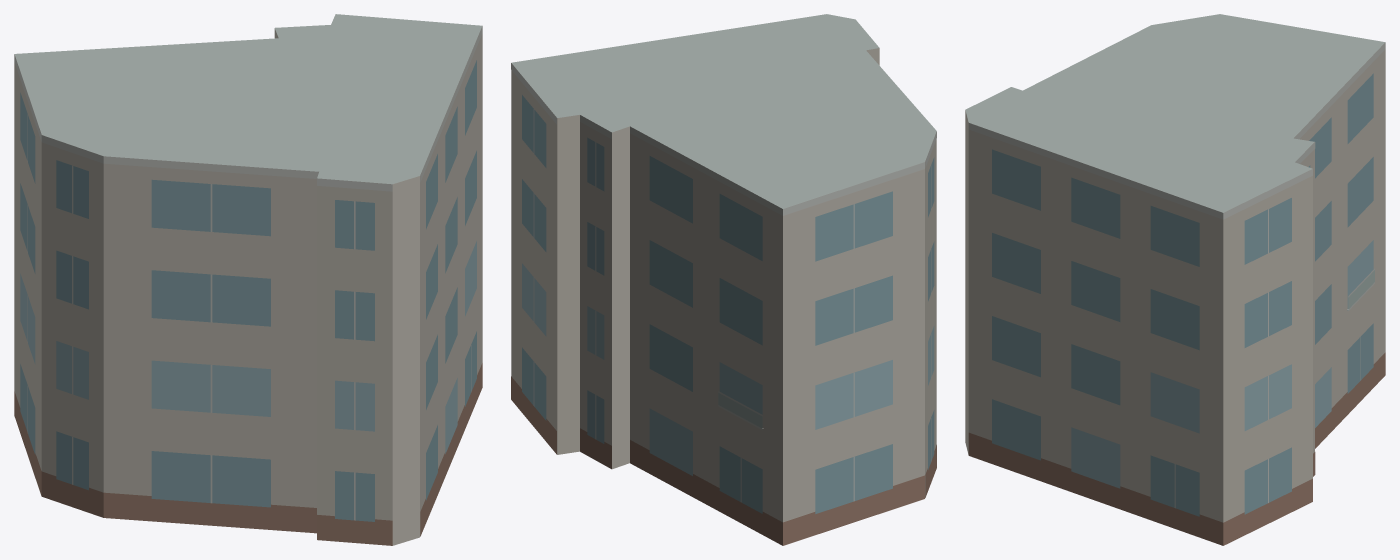
Rendered from survey-upis-32874282.glb.
The picture shows the model from 3 angles, left to right: view 1: azimuth 30°, elevation 25°; view 2: azimuth 150°, elevation 25°; view 3: azimuth 270°, elevation 25°; orthographic projection. The views are drawn at different scales.
Visible parts, largest first — view 1: survey-upis-32874282.tmp; view 2: survey-upis-32874282.tmp; view 3: survey-upis-32874282.tmp.
Part boxes in pixels (x1,y1,x2,y2): survey-upis-32874282.tmp: [14, 14, 482, 545]; survey-upis-32874282.tmp: [511, 14, 936, 545]; survey-upis-32874282.tmp: [965, 14, 1385, 545].
Size of the model in its own units: 15.25 by 11.9 by 13.62.
